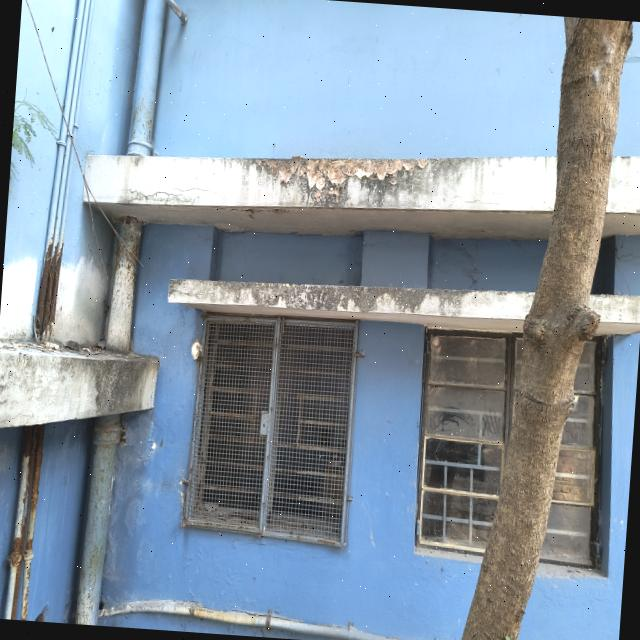crack: (614, 242, 640, 269), (118, 188, 185, 198), (170, 186, 222, 195)
peeling: (255, 156, 428, 205), (129, 90, 155, 145)
stain_mould: (184, 313, 354, 541), (168, 280, 499, 317), (0, 347, 158, 416), (75, 415, 120, 625), (328, 157, 512, 208), (6, 424, 44, 620), (105, 216, 142, 352), (35, 242, 61, 341), (589, 293, 640, 323)
